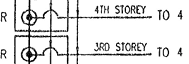Single Phase Tap-Off Unit: (11, 0, 69, 33), (11, 34, 70, 64)
